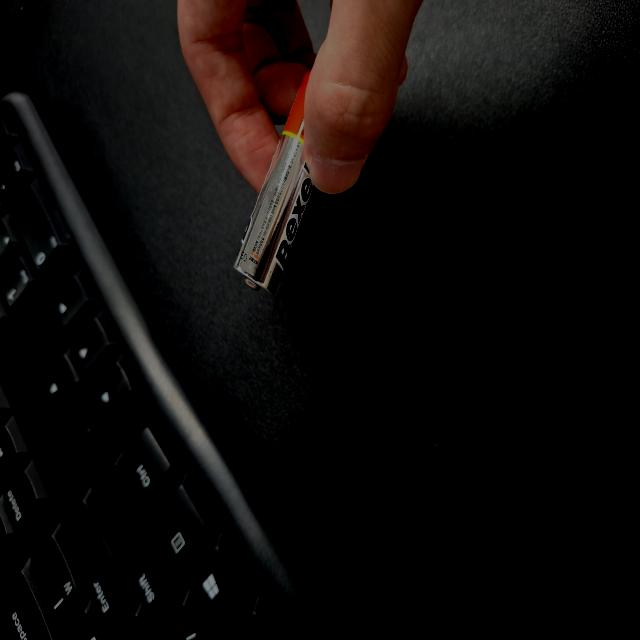AA: (260, 313, 422, 418)
